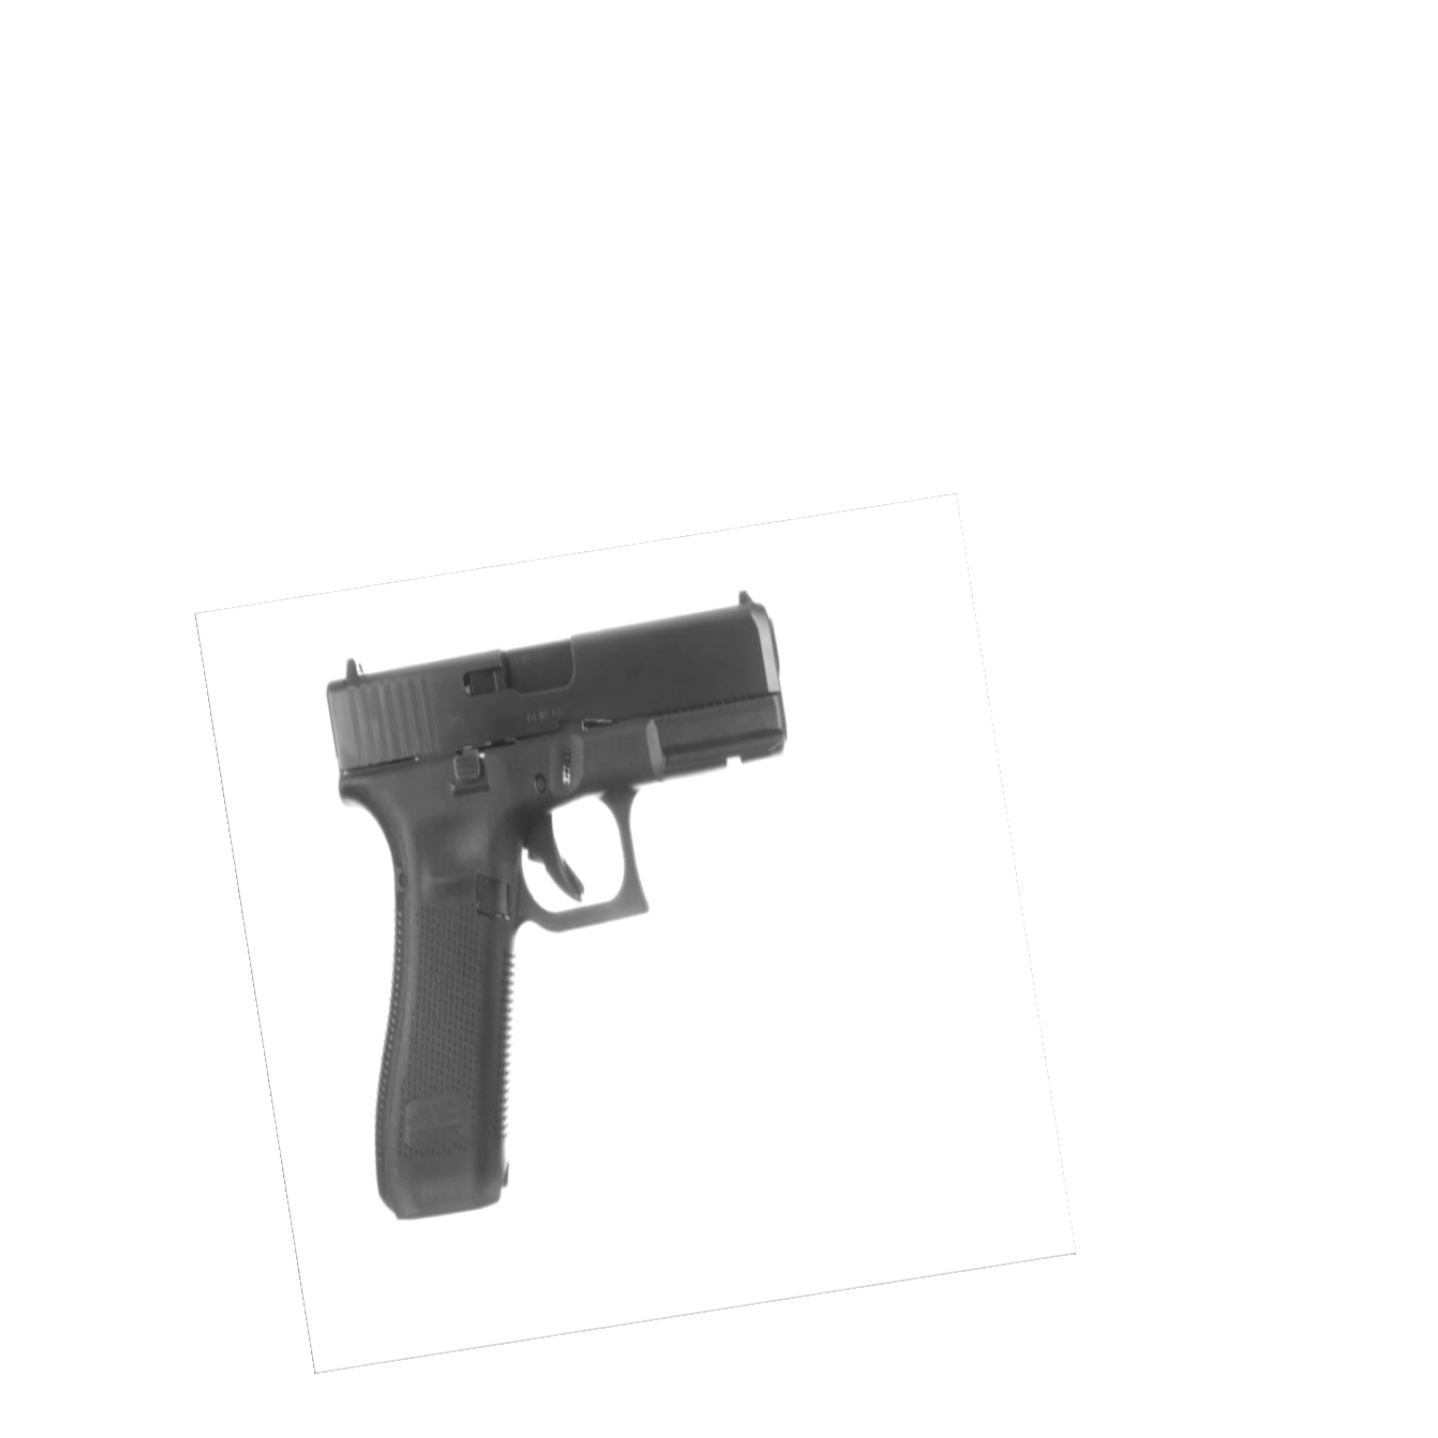gun: (323, 582, 797, 1223)
